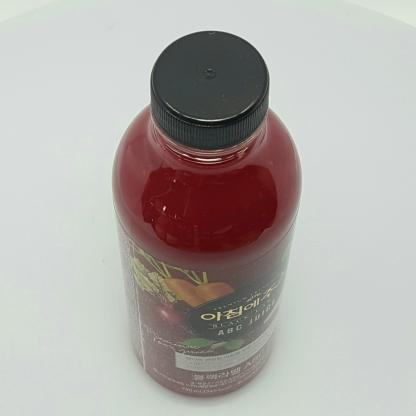--------------ABC--750ML: (112, 31, 301, 398)
